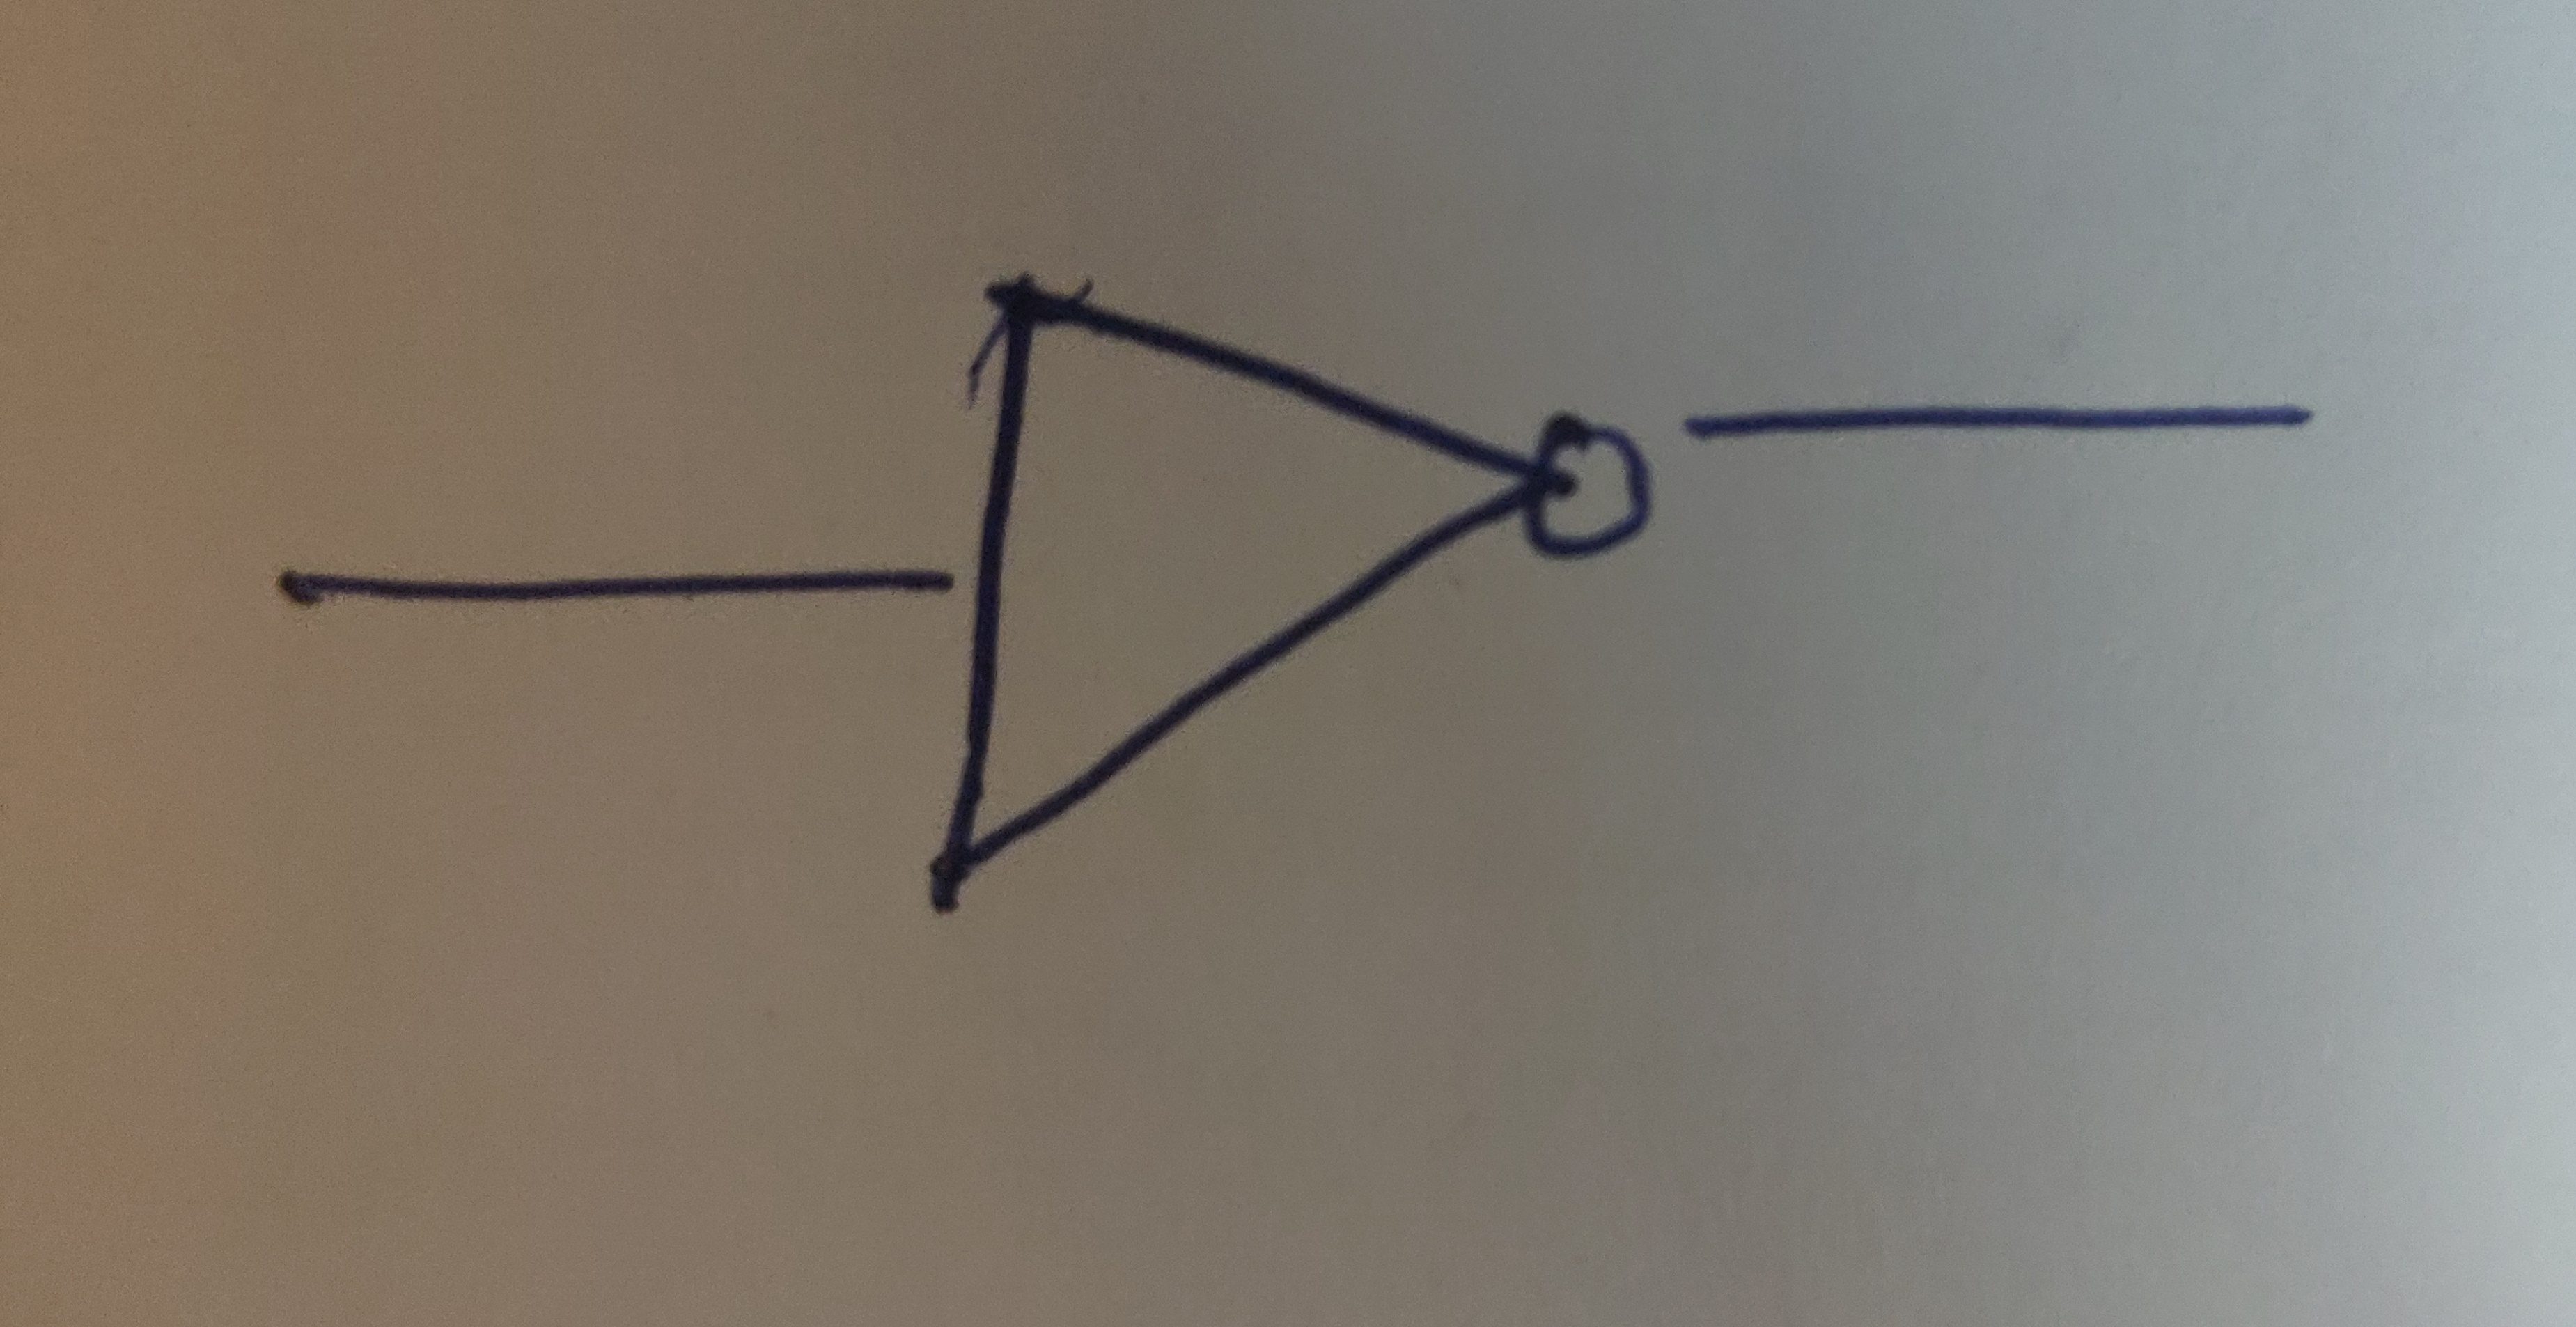not: (822, 179, 1817, 980)
